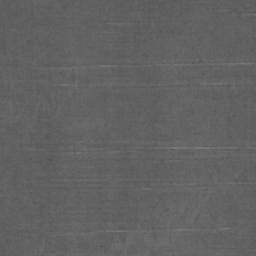Waist folding: (50, 225, 231, 256), (113, 61, 256, 87), (47, 63, 116, 88), (190, 177, 256, 187), (155, 145, 256, 151), (220, 8, 256, 17), (64, 178, 100, 183), (0, 27, 16, 33), (64, 151, 80, 156), (29, 147, 43, 152)
